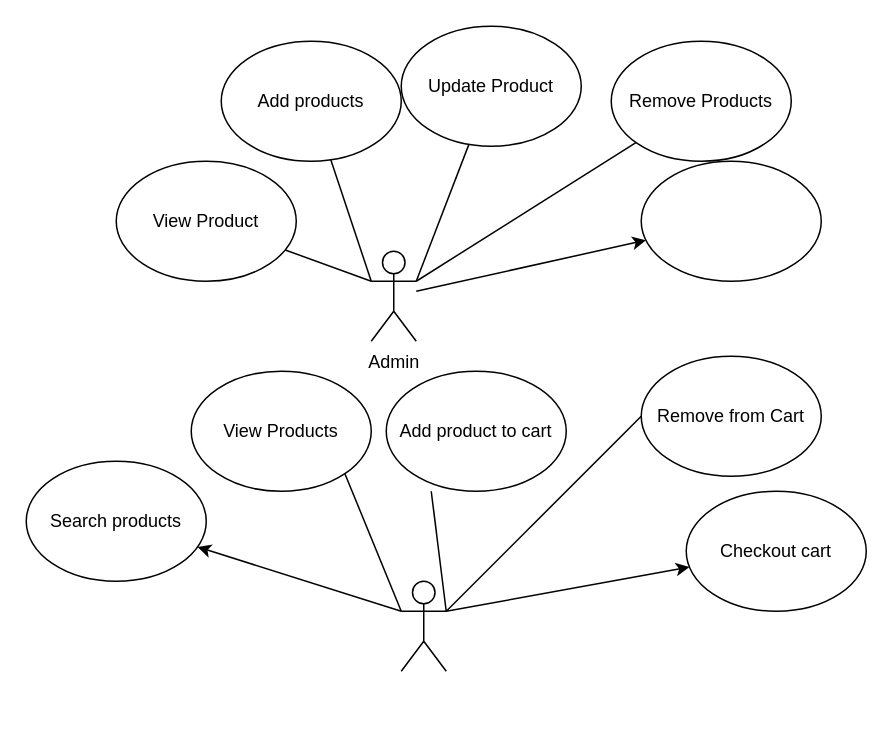
The diagram is 893 pixels wide and 729 high, and some of its shapes have lost their labels. The centre of each missing label's shape, as x and y in pixels:
"Customer" belongs at [423,625].
"View transaction history" belongs at [730,220].
